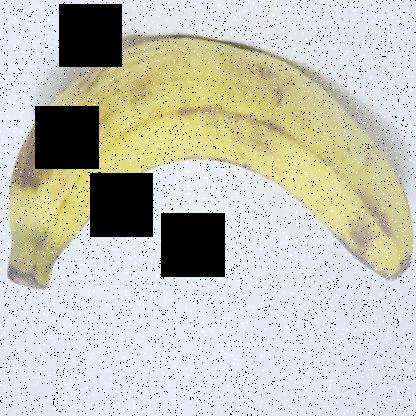ripe: (2, 28, 415, 335)
